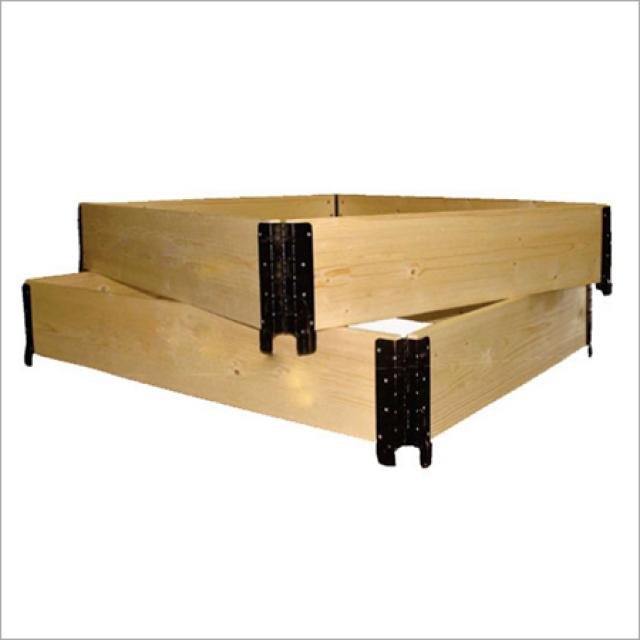Palette: (14, 269, 608, 474), (55, 186, 620, 320)
